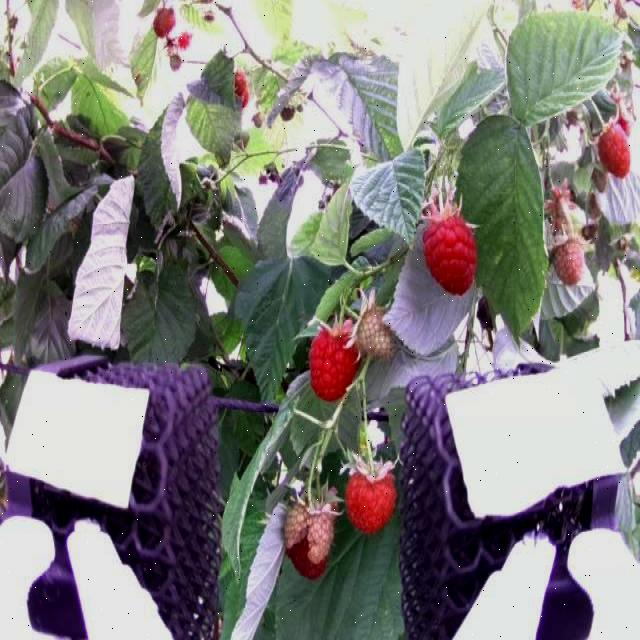Riped berries: (420, 202, 478, 294), (286, 490, 339, 580), (308, 319, 362, 404), (344, 453, 398, 537), (595, 119, 640, 196)
